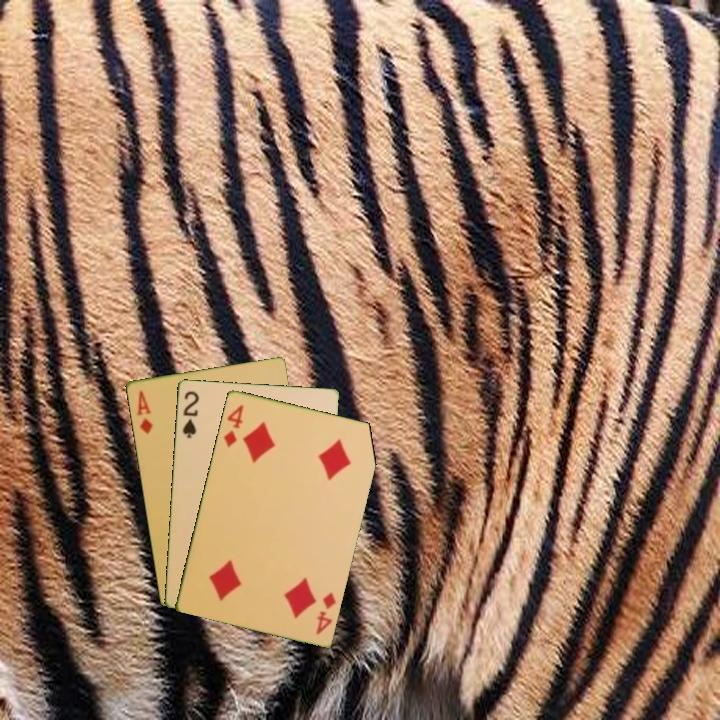2s: (179, 387, 201, 441)
4d: (312, 588, 339, 637), (220, 401, 246, 450)
Ad: (133, 387, 155, 437)
